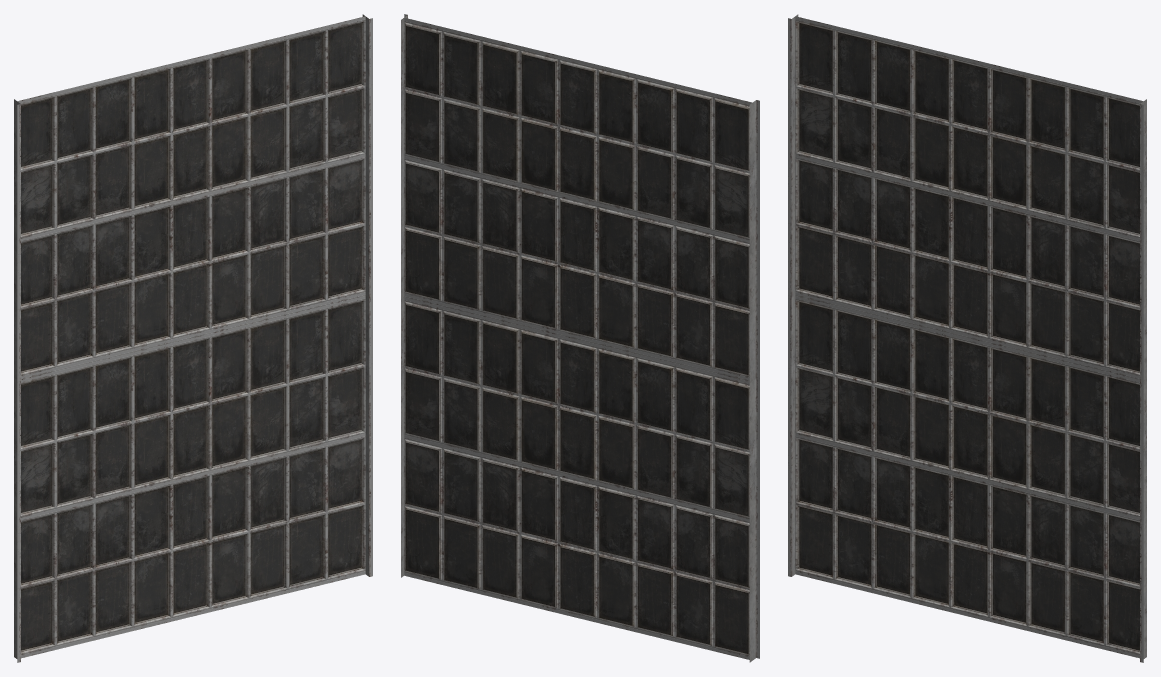
File: factory_window.glb
3 views of the same model, side by side, from view 1: azimuth 30°, elevation 25°; view 2: azimuth 150°, elevation 25°; view 3: azimuth 330°, elevation 25° (orthographic).
Parts seen in each view (by area): view 1: factory_window; view 2: factory_window; view 3: factory_window.
Boxes of the visible parts, left/top/right/bottom form: factory_window: left=14, top=14, right=372, bottom=662; factory_window: left=401, top=14, right=759, bottom=662; factory_window: left=788, top=14, right=1146, bottom=662.
Size of the model in its own units: 2 by 3 by 0.0667.
Materials: 2 (2 with a texture image).
